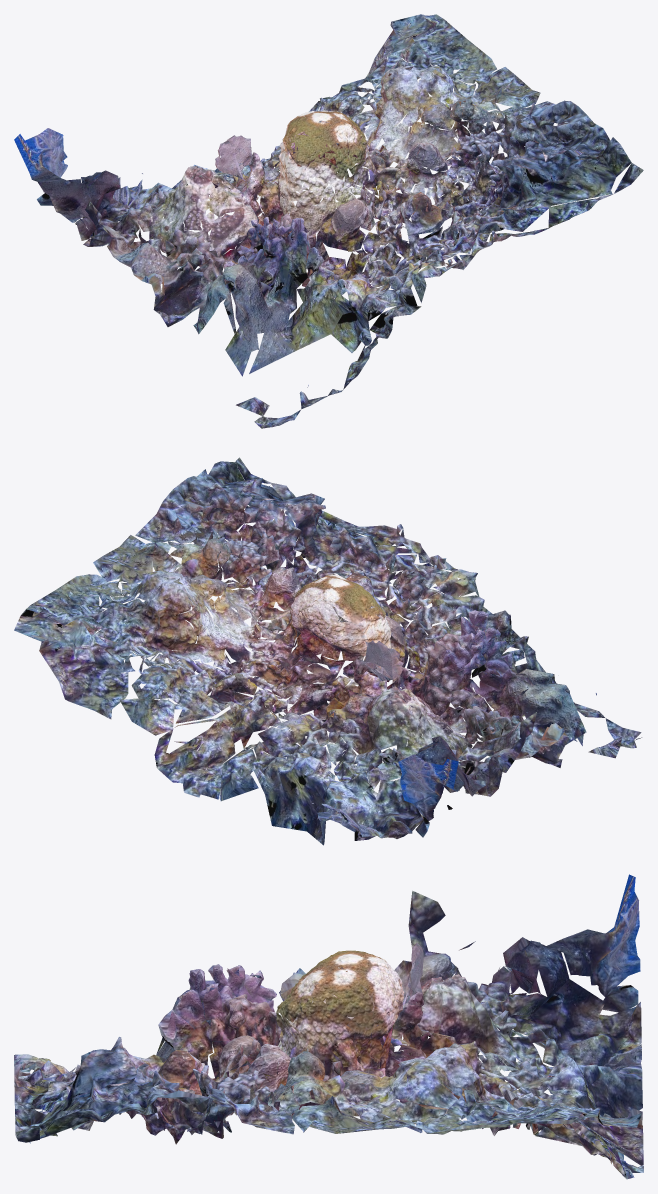
The model's file is coral_greatstar.glb.
3 renders of one model, top to bottom at view 1: azimuth 30°, elevation 25°; view 2: azimuth 150°, elevation 25°; view 3: azimuth 270°, elevation 25°, orthographic. The views are drawn at different scales.
Parts seen in each view (by area): view 1: Model; view 2: Model; view 3: Model.
Boxes of the visible parts, bbox=[...] form: Model: bbox=[14, 14, 643, 428]; Model: bbox=[14, 457, 642, 845]; Model: bbox=[14, 874, 643, 1179].
Bounding box in the file's own units: 10.96 × 4.96 × 9.98.
1 material, 1 textured.
